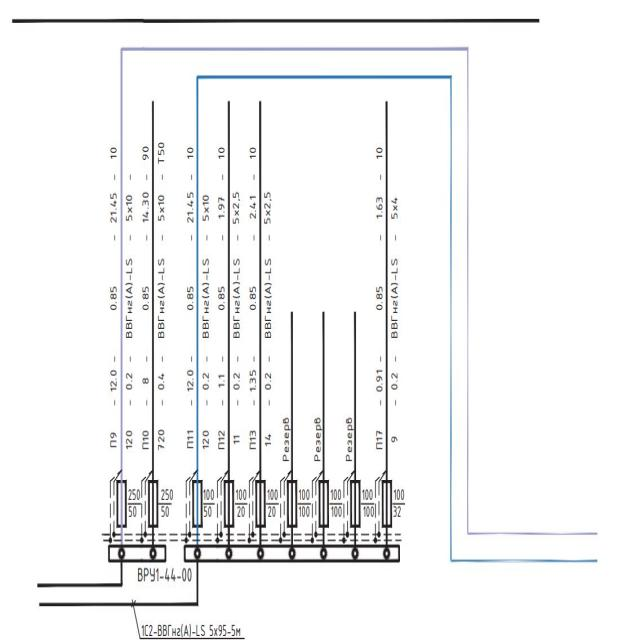-: (136, 567, 192, 585), (296, 488, 310, 522), (200, 488, 214, 522), (361, 487, 375, 520), (328, 487, 342, 520), (234, 488, 248, 521), (265, 487, 279, 520), (128, 487, 142, 520), (392, 488, 406, 520), (160, 488, 173, 522)
FU: (350, 477, 362, 529), (223, 477, 235, 529), (191, 478, 203, 530), (318, 478, 330, 529), (381, 478, 393, 529), (254, 478, 266, 529), (115, 478, 127, 529), (286, 478, 298, 529), (148, 477, 160, 528)
